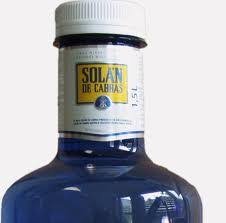solan de cabras: (2, 8, 211, 223)
